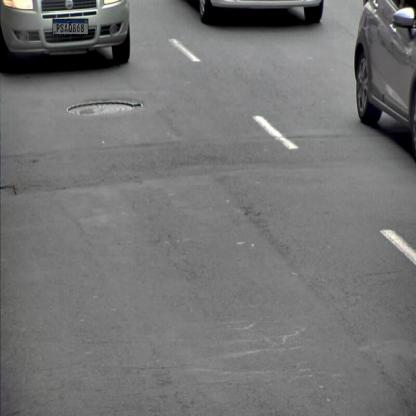PlacaM: (52, 18, 89, 34)
